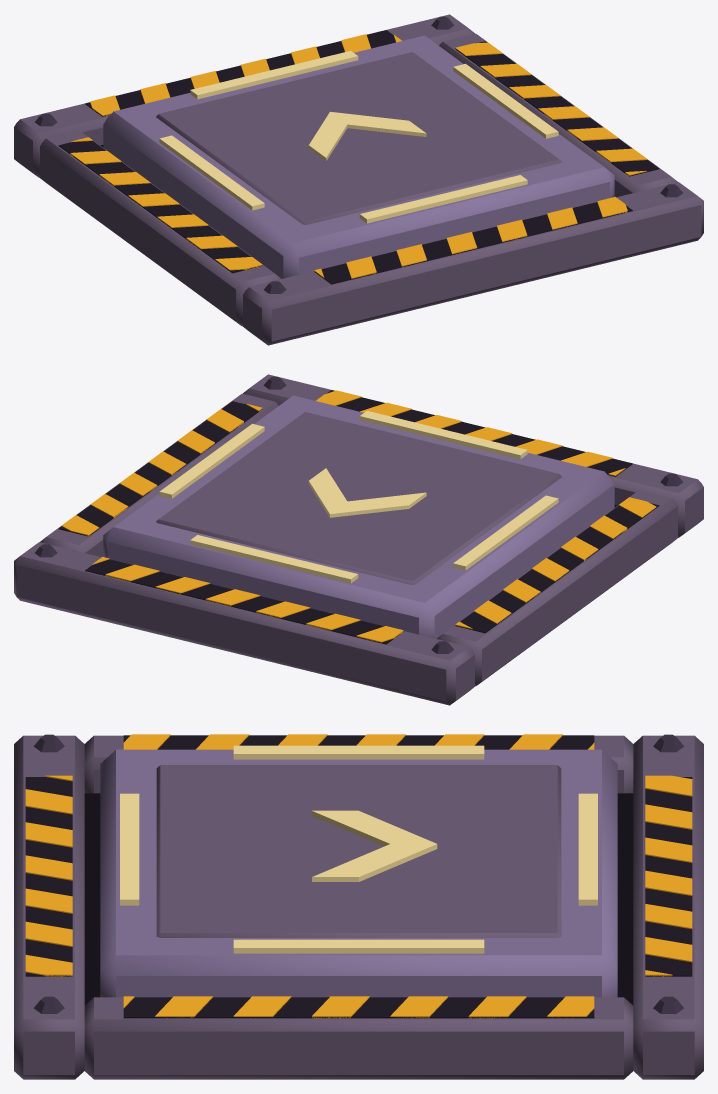
The model's file is plate__lower.glb.
3 views of the same model, one above another, from view 1: azimuth 30°, elevation 25°; view 2: azimuth 150°, elevation 25°; view 3: azimuth 270°, elevation 25° (orthographic). The views are drawn at different scales.
Visible parts, largest first — view 1: Pad, Base; view 2: Pad, Base; view 3: Pad, Base.
Boxes of the visible parts, left/top/right/bottom form: Pad: left=103, top=35, right=614, bottom=278; Base: left=14, top=14, right=703, bottom=345; Pad: left=103, top=395, right=614, bottom=638; Base: left=14, top=374, right=703, bottom=705; Pad: left=100, top=745, right=617, bottom=997; Base: left=14, top=734, right=703, bottom=1079.
Bounding box in the file's own units: 0.88 × 0.142 × 0.88.
